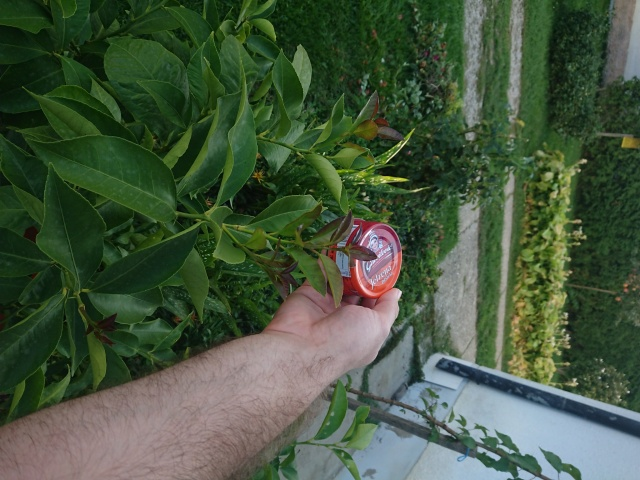Gavrilovic Pork Liver Pate 100g: (325, 215, 403, 299)
